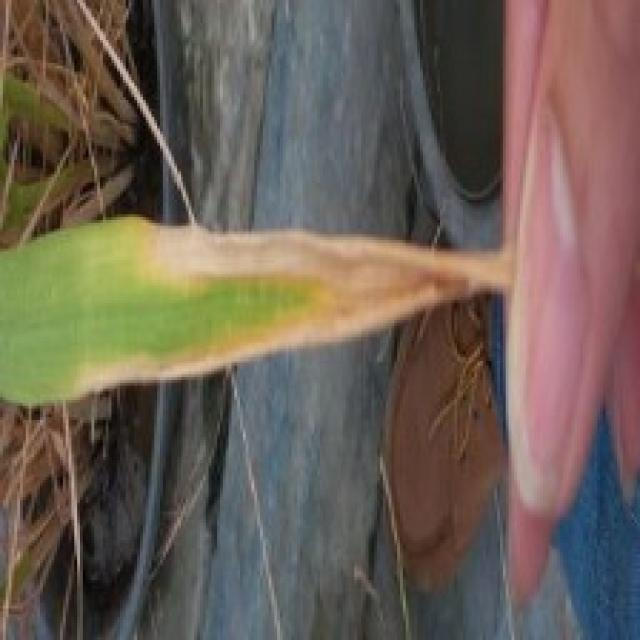Rice___Bacterial_Leaf_Blight: (0, 214, 509, 409)
